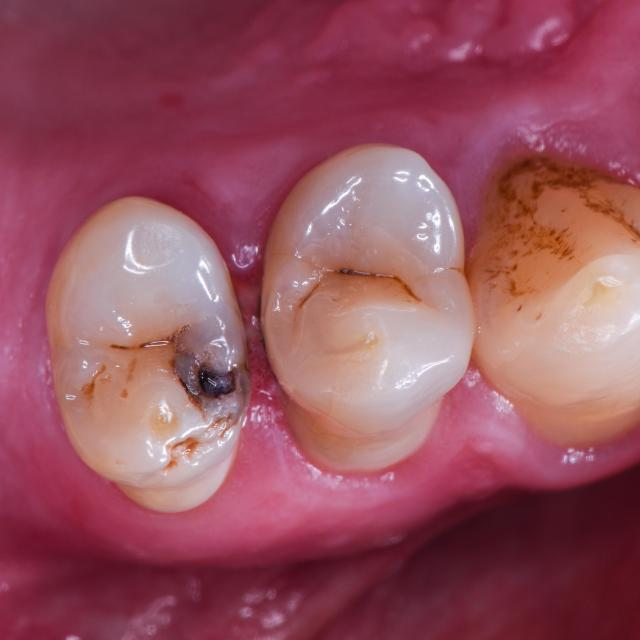caries: (263, 142, 477, 476), (54, 198, 250, 508), (473, 148, 640, 438)
